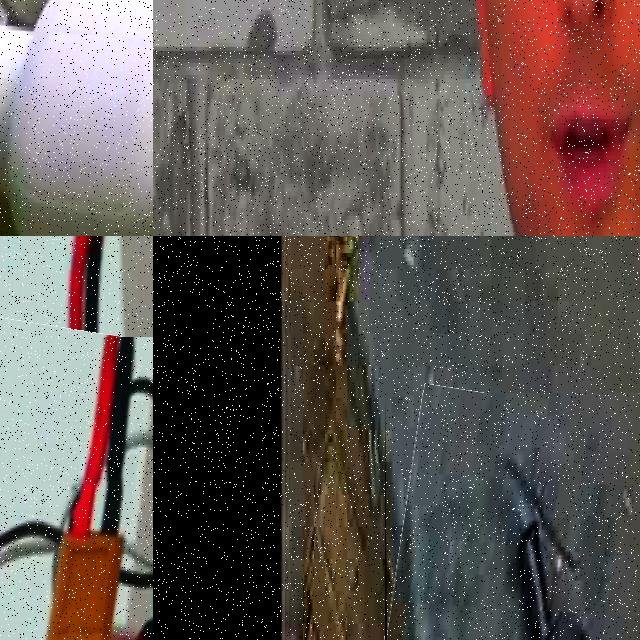0: (385, 393, 640, 640)
drone: (0, 337, 153, 640), (0, 0, 153, 236)
